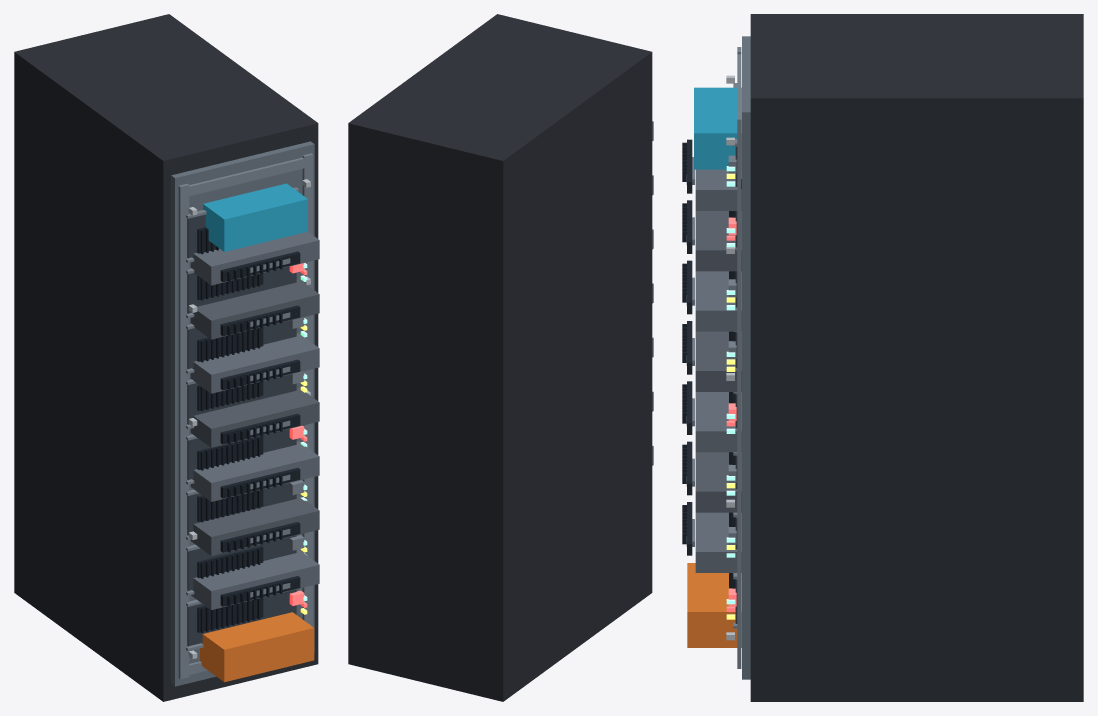
File: rack-a06.glb
3 renders of one model, left to right at view 1: azimuth 30°, elevation 25°; view 2: azimuth 150°, elevation 25°; view 3: azimuth 270°, elevation 25°, orthographic. The views are drawn at different scales.
Visible parts, largest first — view 1: rack_frame, front_panel, power_module, cooling_module, front_left_rail, host_A6, host_A4, host_A2, host_A5, host_A3, host_A1, host_A7 (+24 smaller); view 2: rack_frame; view 3: rack_frame, front_panel, cooling_module, power_module, front_right_rail, host_A5, host_A3, host_A6, host_A1, host_A4, host_A2, host_A7.
Part boxes in pixels (x1,y1,x2,y2): rack_frame: [14, 14, 318, 701]; front_panel: [171, 141, 314, 686]; power_module: [200, 612, 314, 682]; cooling_module: [203, 183, 307, 251]; front_left_rail: [178, 183, 189, 679]; host_A6: [190, 279, 319, 339]; host_A4: [190, 387, 319, 447]; host_A2: [190, 495, 319, 555]; host_A5: [190, 333, 319, 393]; host_A3: [190, 441, 319, 501]; host_A1: [191, 549, 319, 609]; host_A7: [190, 231, 319, 285]; rack_frame: [348, 14, 652, 701]; rack_frame: [750, 14, 1083, 701]; front_panel: [742, 36, 750, 679]; cooling_module: [694, 87, 741, 169]; power_module: [687, 563, 741, 647]; front_right_rail: [737, 114, 741, 668]; host_A5: [682, 263, 741, 331]; host_A3: [682, 384, 741, 452]; host_A6: [682, 203, 741, 271]; host_A1: [682, 505, 741, 572]; host_A4: [682, 324, 741, 391]; host_A2: [682, 444, 741, 512]; host_A7: [682, 142, 741, 210].
Bounding box in the file's own units: 0.6 × 2 × 1.2.
